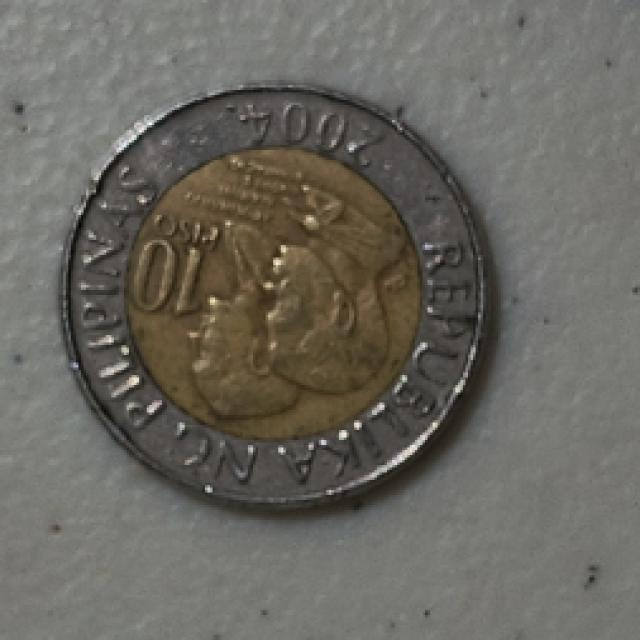10_peso: (61, 88, 483, 502)
